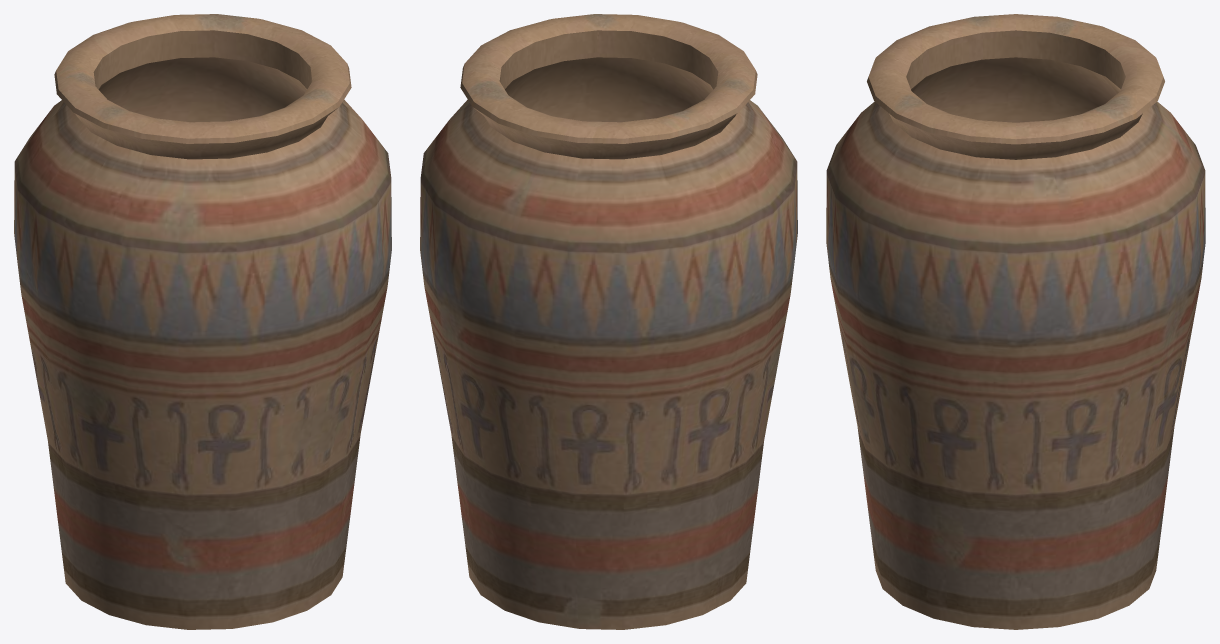
File: pot_3.fbx
3 renders of one model, left to right at view 1: azimuth 30°, elevation 25°; view 2: azimuth 150°, elevation 25°; view 3: azimuth 270°, elevation 25°, orthographic.
Visible parts, largest first — view 1: pot_3; view 2: pot_3; view 3: pot_3.
Boxes of the visible parts, left/top/right/bottom form: pot_3: left=14, top=14, right=391, bottom=629; pot_3: left=420, top=14, right=797, bottom=629; pot_3: left=826, top=14, right=1205, bottom=629.
Size of the model in its own units: 76.82 by 111 by 76.82.
Materials: 1 (1 with a texture image).
